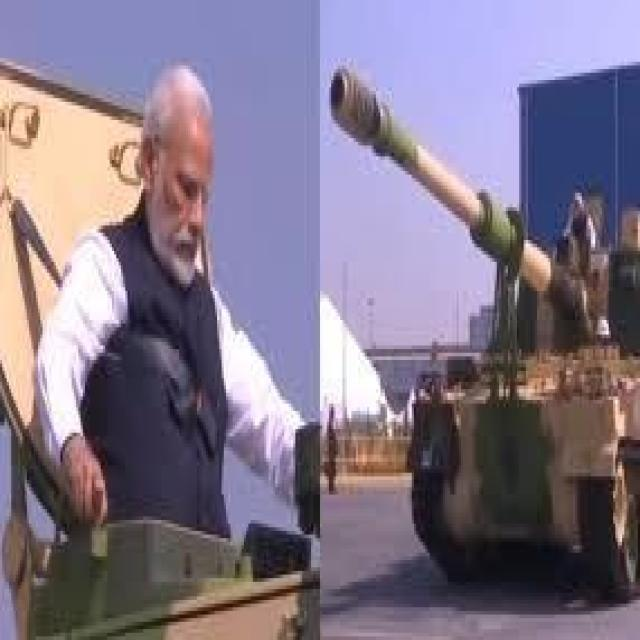Tanks: (324, 56, 636, 620), (11, 60, 313, 631)
